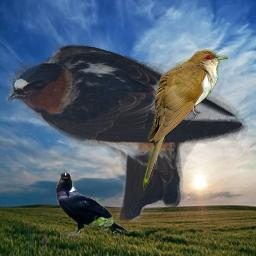Crow: (55, 171, 130, 238)
Cuckoo: (143, 48, 228, 191)
Swallow: (6, 41, 248, 222)
